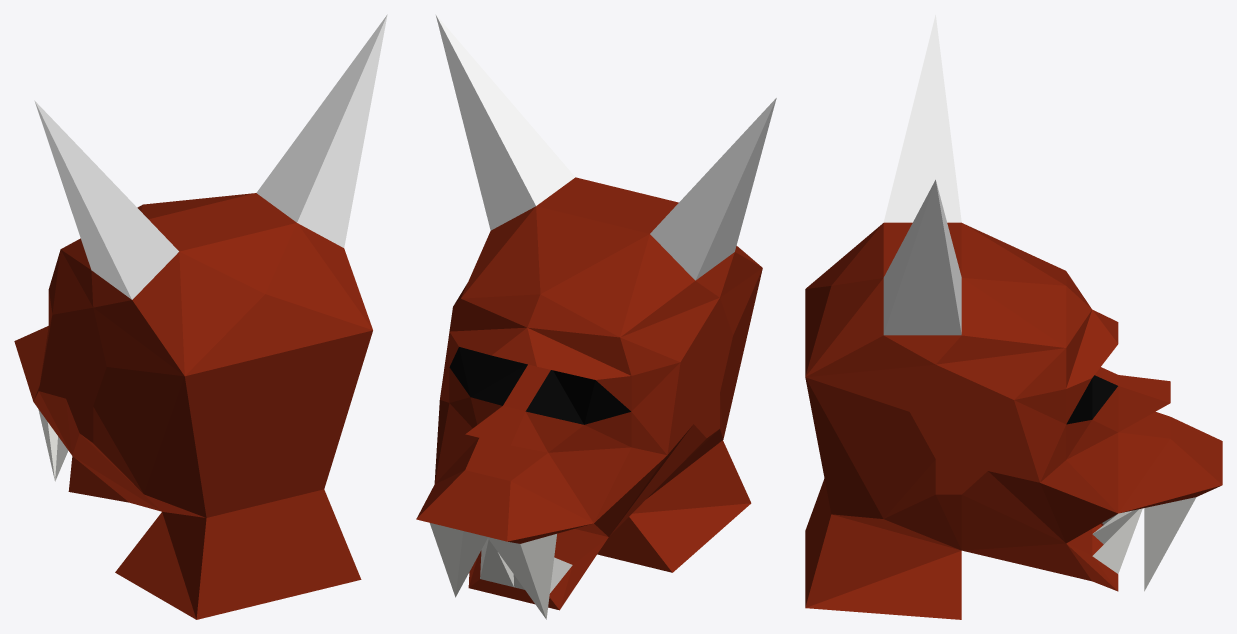
Rendered from itm_model0m_red_halloween_mask.obj.
3 views of the same model, side by side, from view 1: azimuth 30°, elevation 25°; view 2: azimuth 150°, elevation 25°; view 3: azimuth 270°, elevation 25° (orthographic). The views are drawn at different scales.
Bounding box in the file's own units: 0.2344 × 0.3203 × 0.25.
